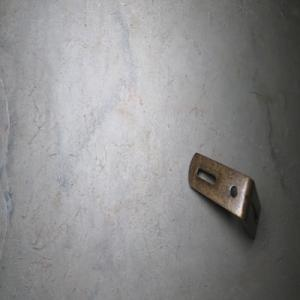MetalPart: (187, 150, 262, 241)
